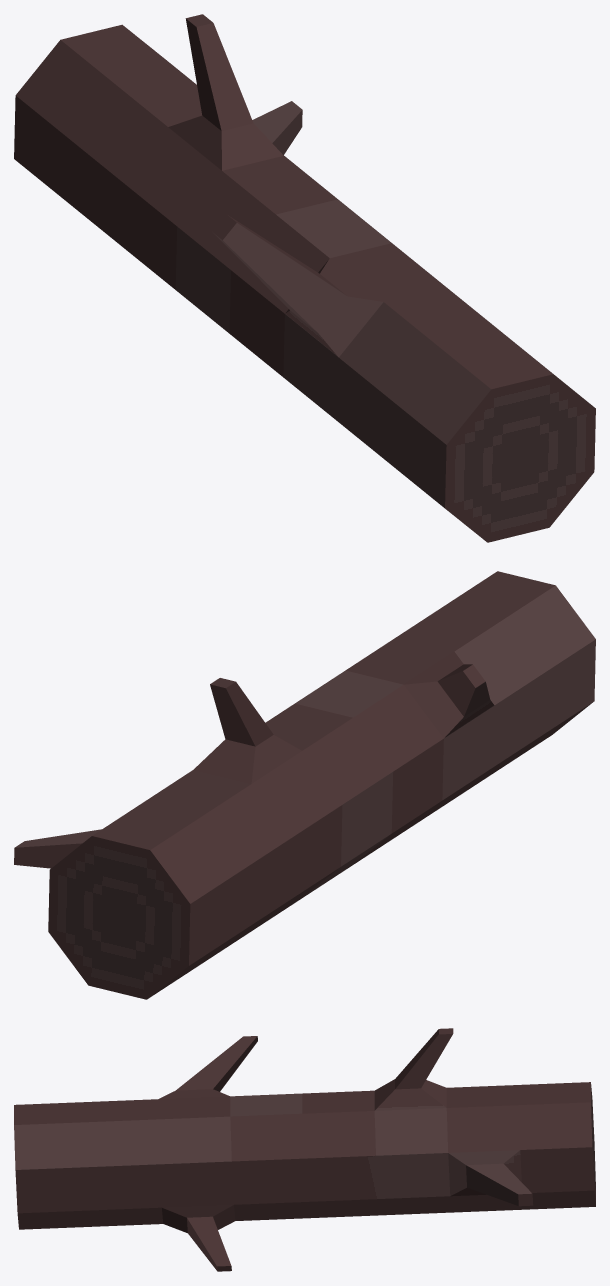
File: DeadLog.gltf
3 views of the same model, one above another, from view 1: azimuth 30°, elevation 25°; view 2: azimuth 150°, elevation 25°; view 3: azimuth 270°, elevation 25° (orthographic). The views are drawn at different scales.
Visible parts, largest first — view 1: cylinder; view 2: cylinder; view 3: cylinder.
Boxes of the visible parts, x1,y1,x2,y2 form: cylinder: [14, 14, 595, 542]; cylinder: [14, 571, 595, 999]; cylinder: [14, 1028, 595, 1271].
Bounding box in the file's own units: 0.2384 × 0.2371 × 0.6299.
Materials: 1 (1 with a texture image).
